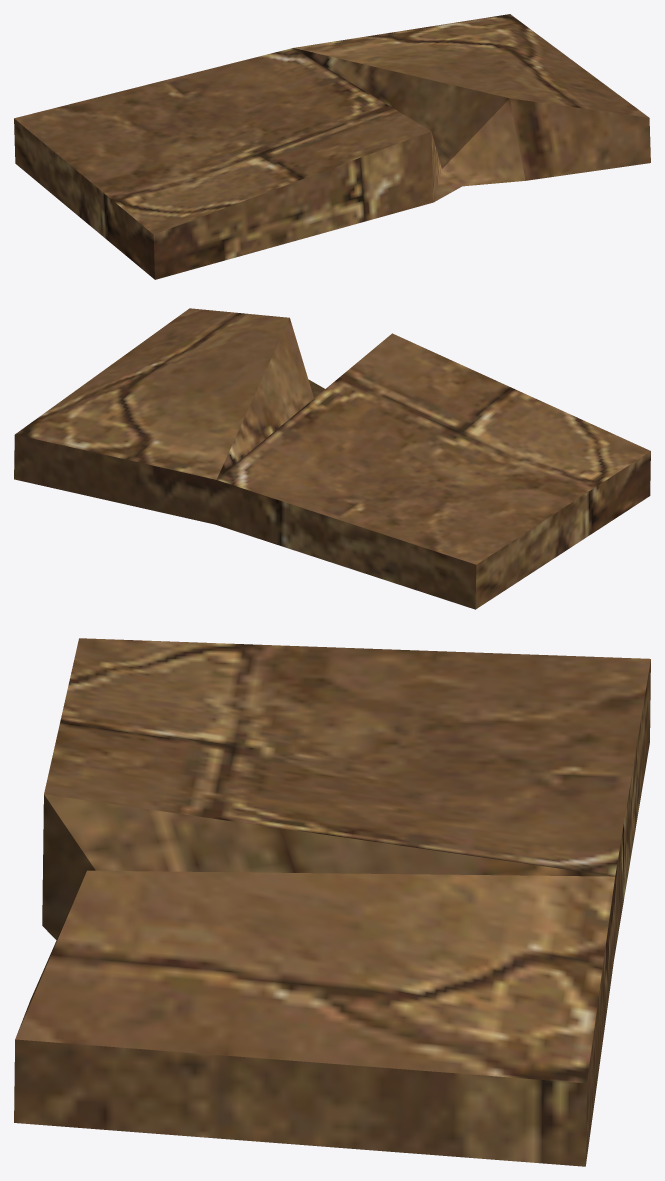
File: Scene_suishi_002.FBX
3 renders of one model, top to bottom at view 1: azimuth 30°, elevation 25°; view 2: azimuth 150°, elevation 25°; view 3: azimuth 270°, elevation 25°, orthographic. The views are drawn at different scales.
Parts seen in each view (by area): view 1: Scene_suishi_002; view 2: Scene_suishi_002; view 3: Scene_suishi_002.
Part boxes in pixels (x1=…): Scene_suishi_002: x1=14, y1=14, x2=650, y2=279; Scene_suishi_002: x1=14, y1=308, x2=650, y2=609; Scene_suishi_002: x1=14, y1=638, x2=650, y2=1166.
Bounding box in the file's own units: 2.34 × 0.429 × 1.43.
